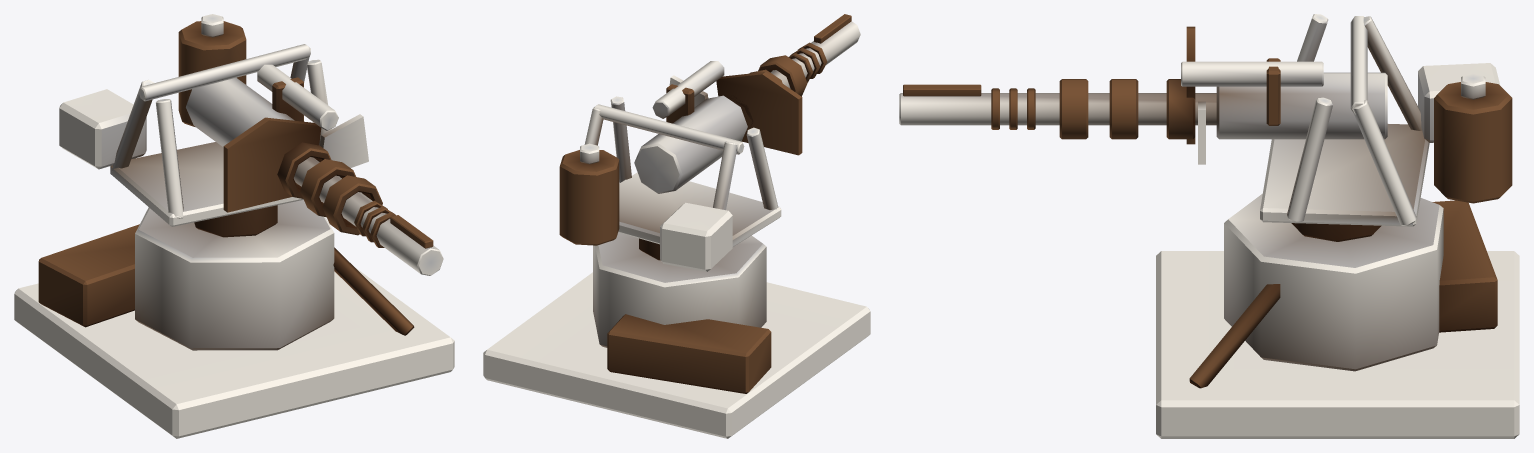
The model's file is R4W_Basic_LOD1.fbx.
3 renders of one model, left to right at view 1: azimuth 30°, elevation 25°; view 2: azimuth 150°, elevation 25°; view 3: azimuth 270°, elevation 25°, orthographic. The views are drawn at different scales.
Visible parts, largest first — view 1: R4W_Basic_LOD1; view 2: R4W_Basic_LOD1; view 3: R4W_Basic_LOD1.
Boxes of the visible parts, left/top/right/bottom form: R4W_Basic_LOD1: left=14, top=14, right=454, bottom=438; R4W_Basic_LOD1: left=483, top=14, right=870, bottom=438; R4W_Basic_LOD1: left=899, top=14, right=1519, bottom=438.
Bounding box in the file's own units: 0.51 × 0.492 × 0.87.
